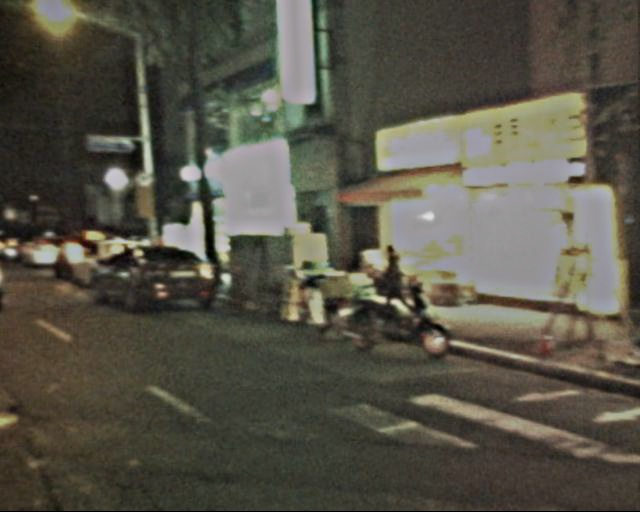person: (364, 240, 407, 327)
